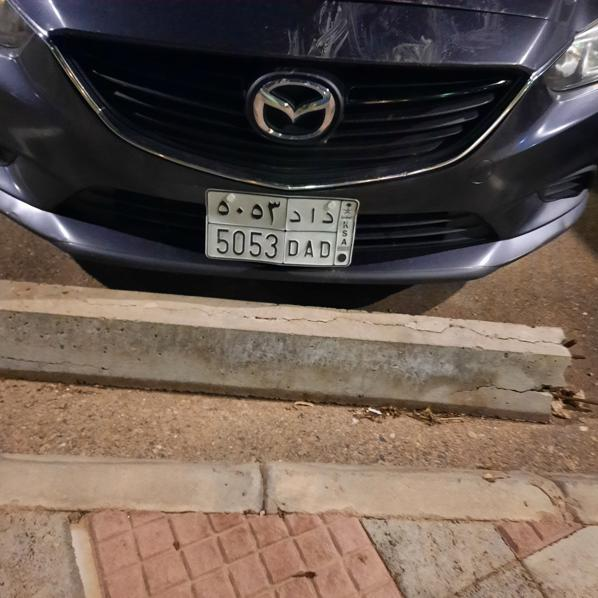numberplate: (207, 190, 357, 268)
